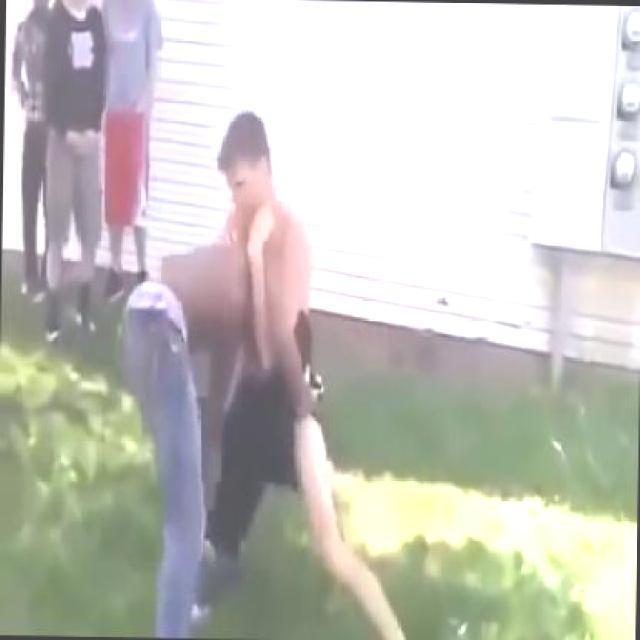fight: (116, 106, 330, 596)
